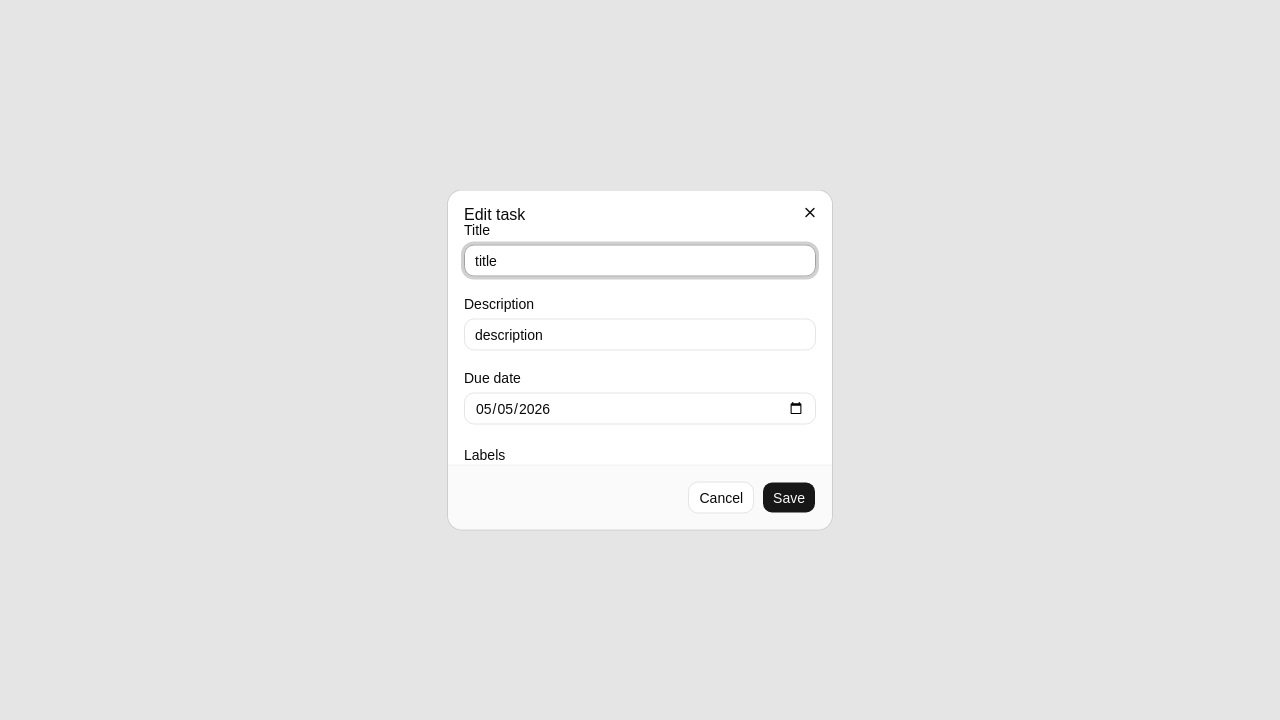
Scenario: EditTask › does not submit when title is empty
The image size is (1280, 720).
Clear the field labelled "Title" at (640, 260), box [464,244,816,276]
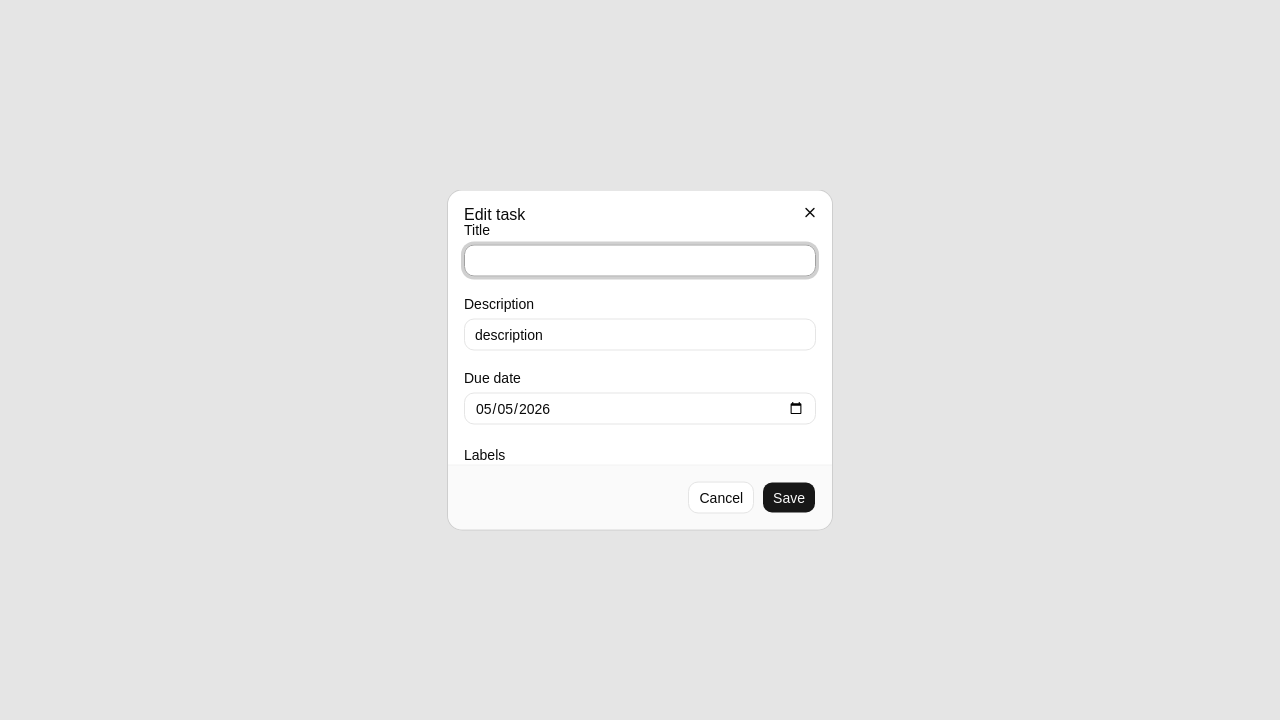
Click the button "Save" at (789, 498), box [762,482,816,514]
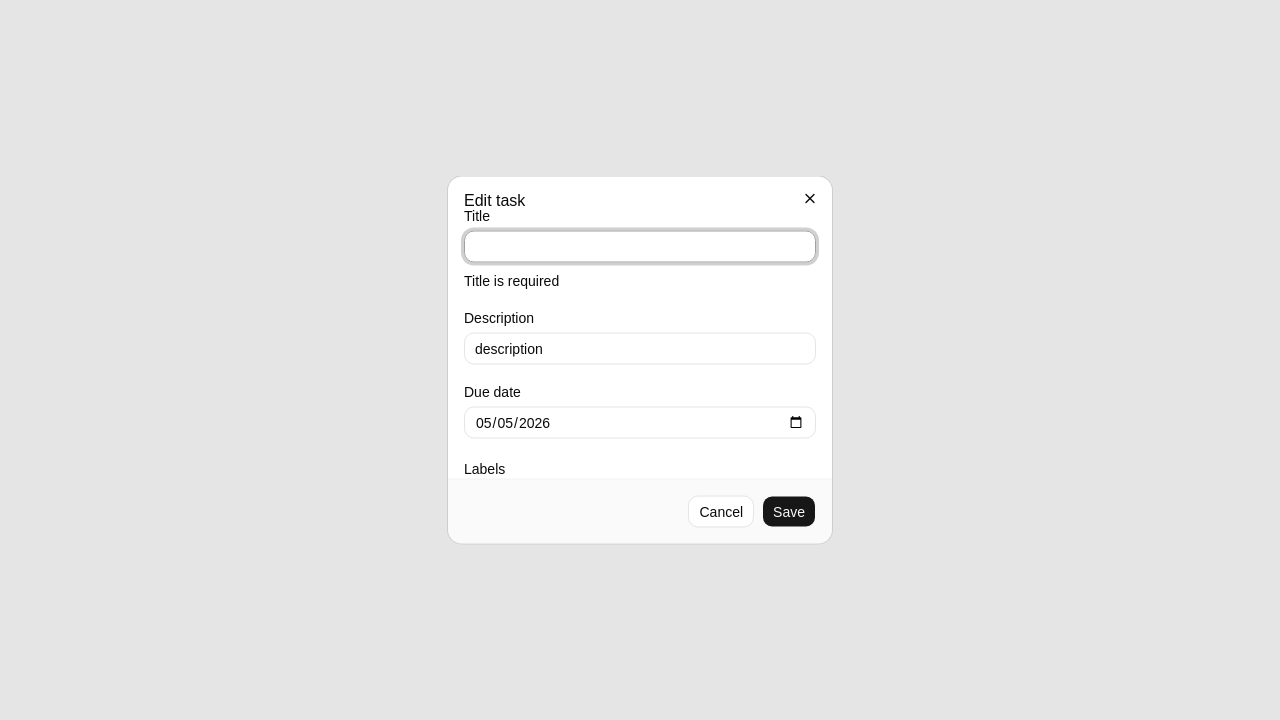
Check: the message reads "Title is required", box [464,272,559,288]
